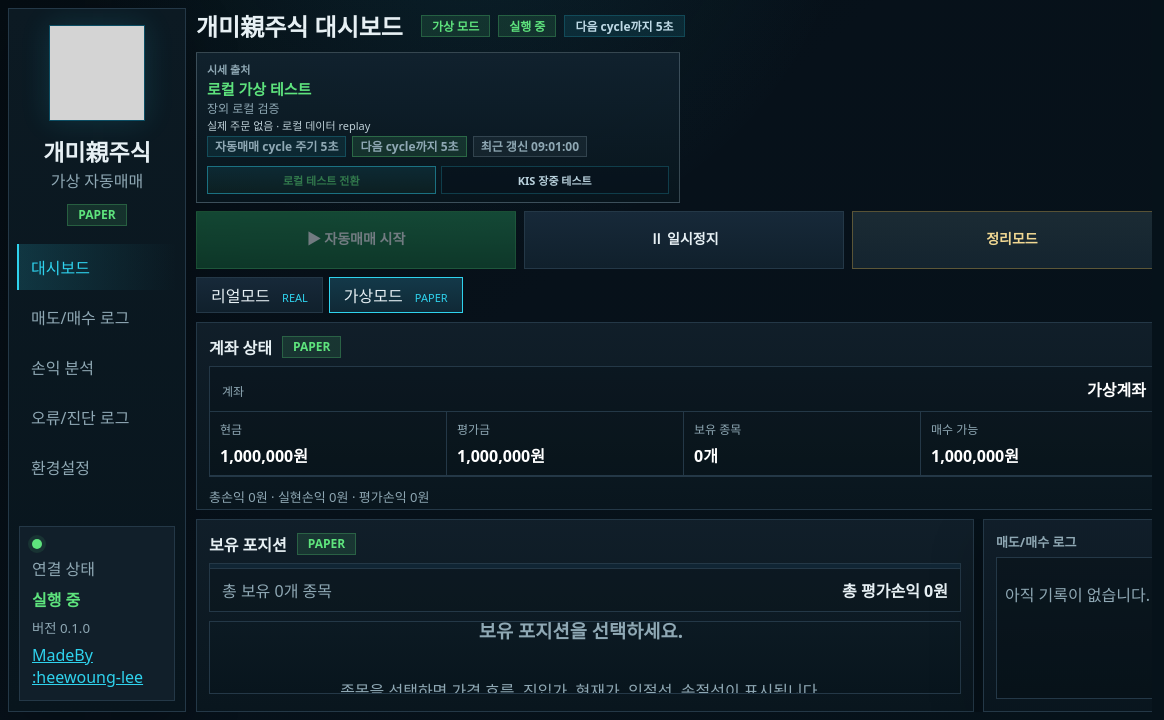
Test: Electron dashboard app shell › ignores stale cycle responses after a newer runtime action state
Expected: the heading "개미親주식 대시보드" is shown, [196,8,403,43]
Click the button "정리모드": (1002, 240) [852,211,1152,269]
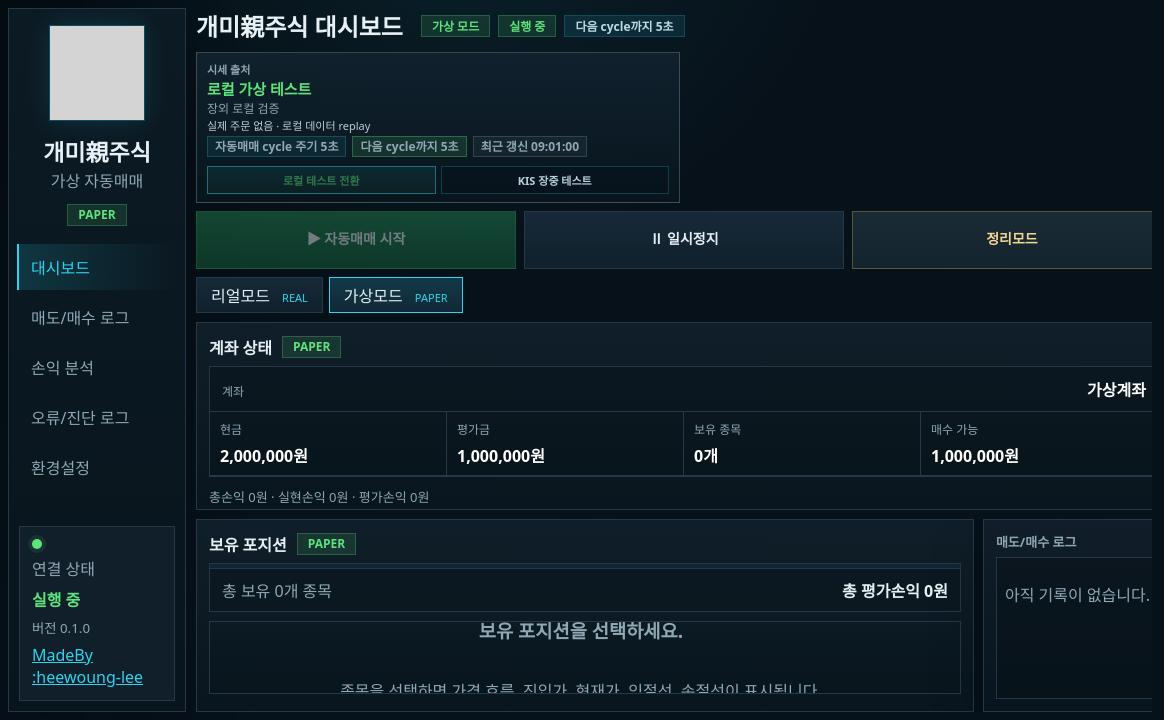
Expected: the text "2,000,000원" is shown, [220,445,308,467]
